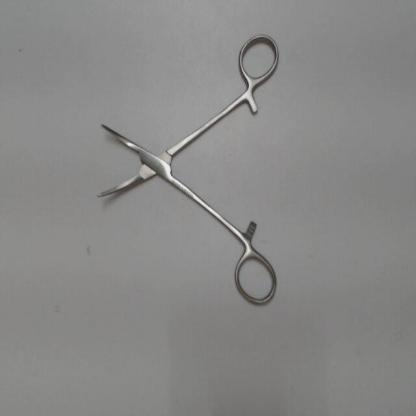Crile Artery Forceps: (87, 28, 283, 310)
